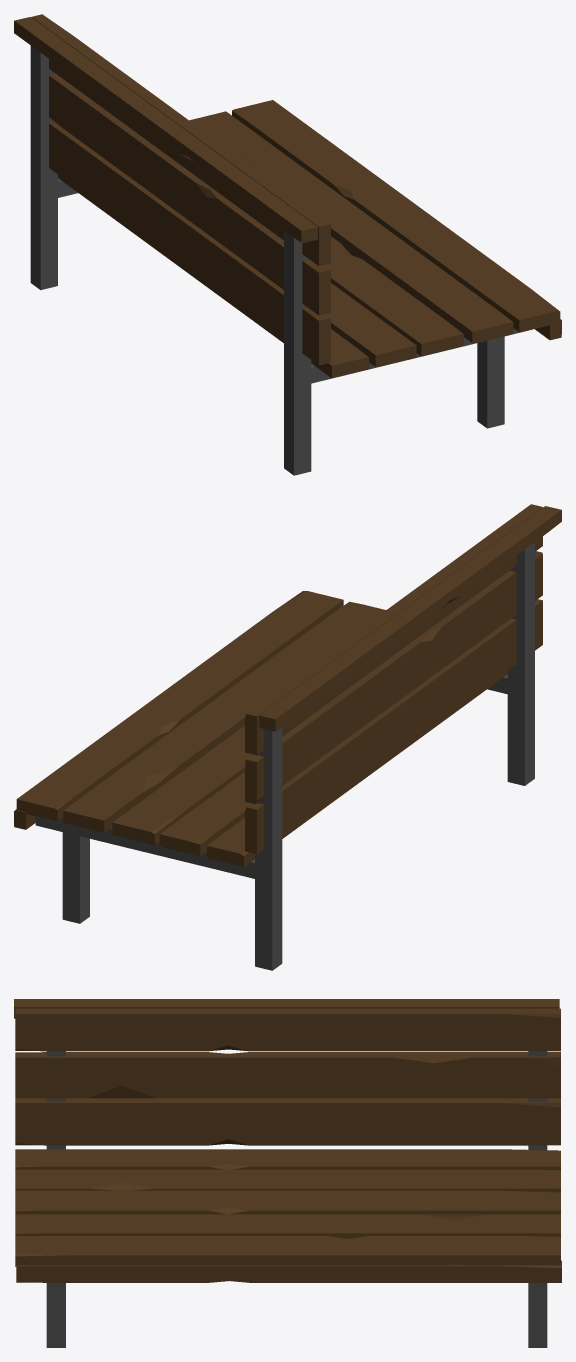
The model's file is BANCO.fbx.
3 renders of one model, top to bottom at view 1: azimuth 30°, elevation 25°; view 2: azimuth 150°, elevation 25°; view 3: azimuth 270°, elevation 25°, orthographic. The views are drawn at different scales.
Visible parts, largest first — view 1: Cube.003, Cube.006, Cube.009, Cube.008, Cube.004, Cube.010, Cube.007, Cube.002, Cube.001, Cube; view 2: Cube.003, Cube.006, Cube.009, Cube.008, Cube.004, Cube.010, Cube.007, Cube.002, Cube.001, Cube; view 3: Cube.009, Cube.008, Cube.007, Cube.006, Cube.002, Cube.004, Cube.001, Cube, Cube.005, Cube.010, Cube.003.
Part boxes in pixels (x1,y1,x2,y2): Cube.003: (30, 45, 529, 475); Cube.006: (232, 100, 560, 331); Cube.009: (49, 122, 330, 365); Cube.008: (49, 74, 330, 315); Cube.004: (189, 111, 513, 342); Cube.010: (14, 17, 317, 243); Cube.007: (31, 14, 330, 266); Cube.002: (324, 236, 463, 356); Cube.001: (326, 283, 416, 367); Cube: (58, 175, 369, 378); Cube.003: (35, 542, 534, 970); Cube.006: (16, 591, 343, 821); Cube.009: (245, 599, 542, 854); Cube.008: (245, 551, 542, 804); Cube.004: (63, 601, 385, 832); Cube.010: (259, 506, 561, 731); Cube.007: (245, 504, 542, 755); Cube.002: (112, 726, 251, 845); Cube.001: (159, 772, 250, 856); Cube: (207, 671, 507, 866); Cube.009: (15, 1098, 560, 1145); Cube.008: (15, 1052, 560, 1098); Cube.007: (15, 1008, 560, 1051); Cube.006: (15, 1236, 560, 1266); Cube.002: (15, 1190, 560, 1214); Cube.004: (15, 1214, 560, 1238); Cube.001: (15, 1169, 560, 1191); Cube: (15, 1149, 560, 1170); Cube.005: (16, 1260, 561, 1282); Cube.010: (14, 999, 559, 1018); Cube.003: (46, 1051, 547, 1347).
Size of the model in its own units: 461 by 437 by 879.
